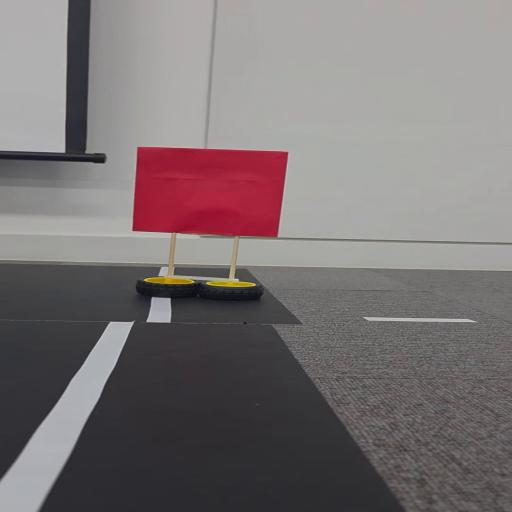Sign_A: (120, 141, 300, 309)
